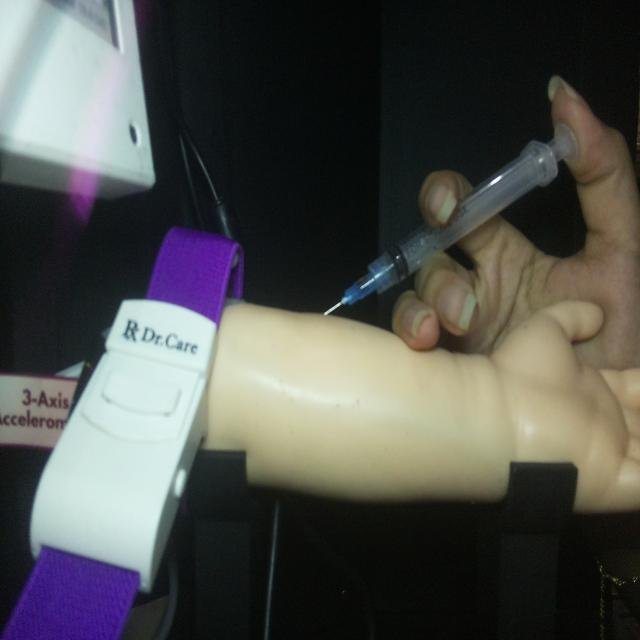26 degrees: (322, 120, 578, 318)
